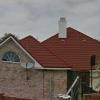Chimney: (52, 13, 69, 50)
